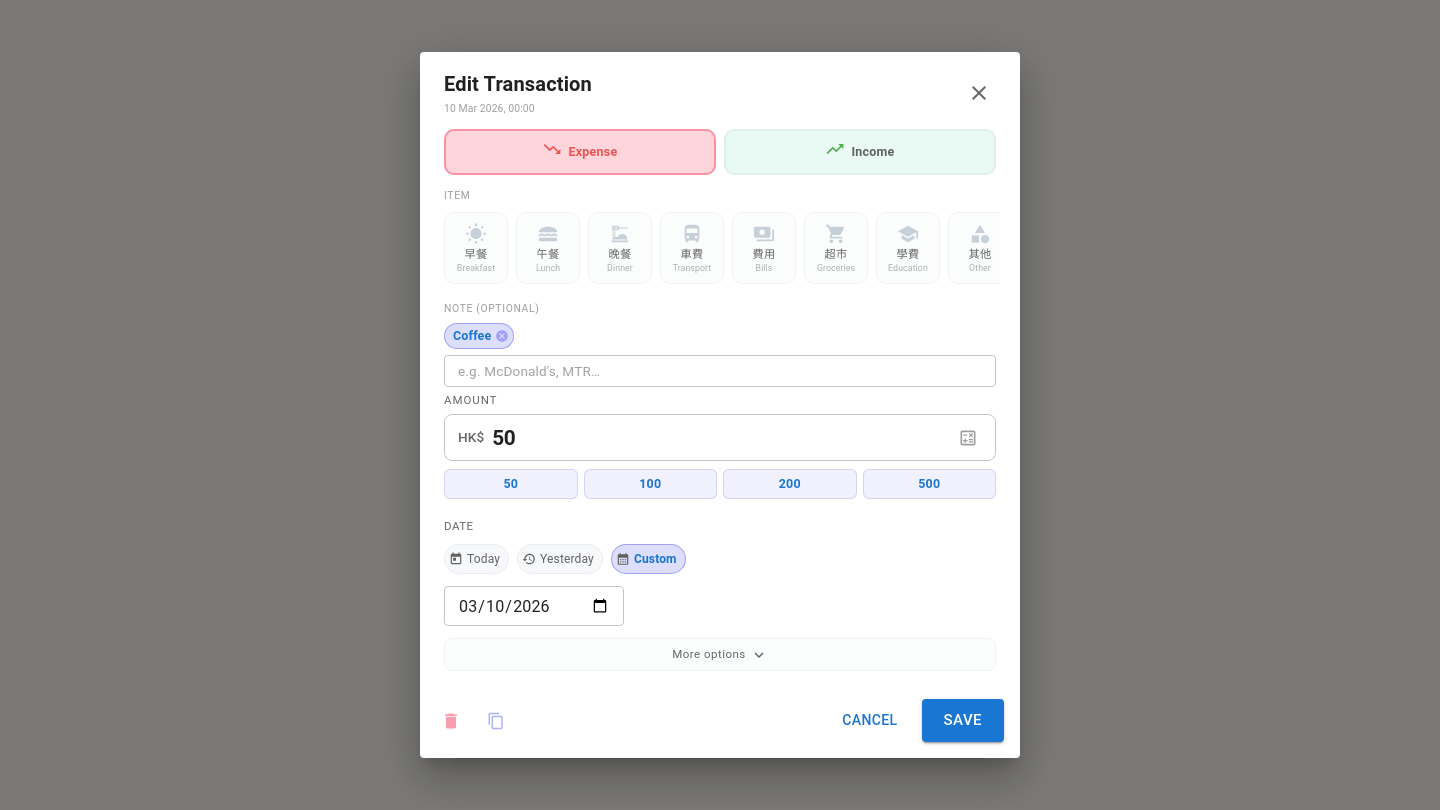
it: EditExpenseModal › shows error alert when save fails
Click the button "Save".
click(963, 721)  # box [922,700,1004,742]
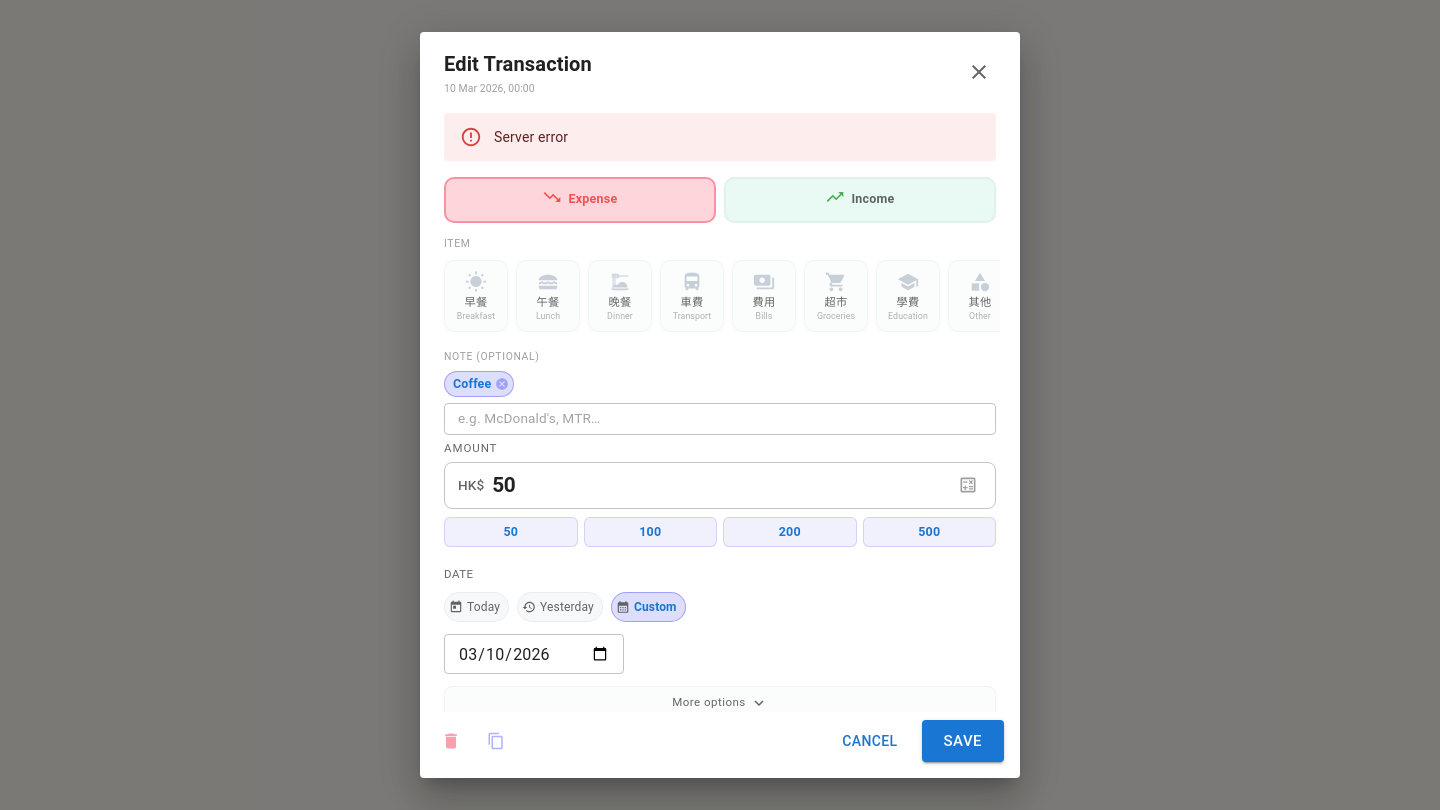
Expected: the message "Server error" is shown, [444,113,996,161]
